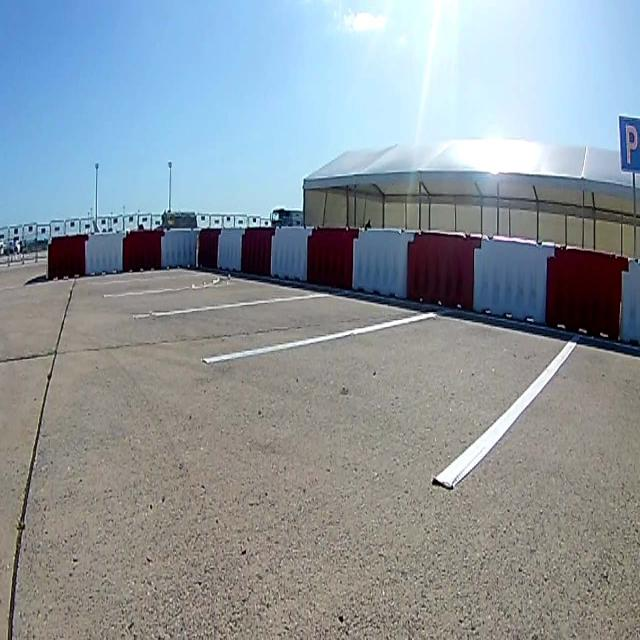park: (617, 115, 640, 172)
